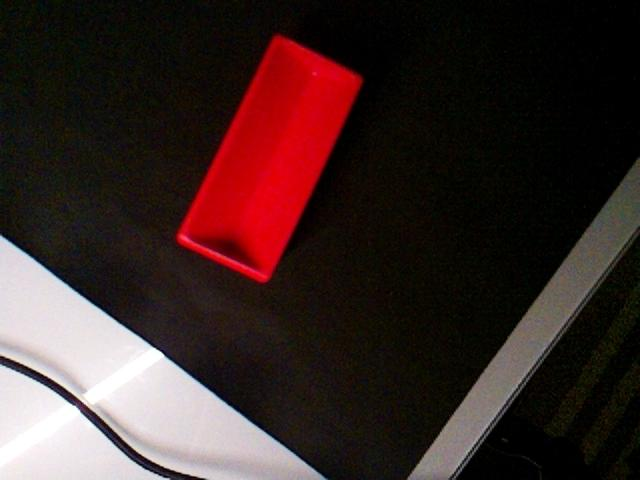red: (175, 32, 365, 285)
